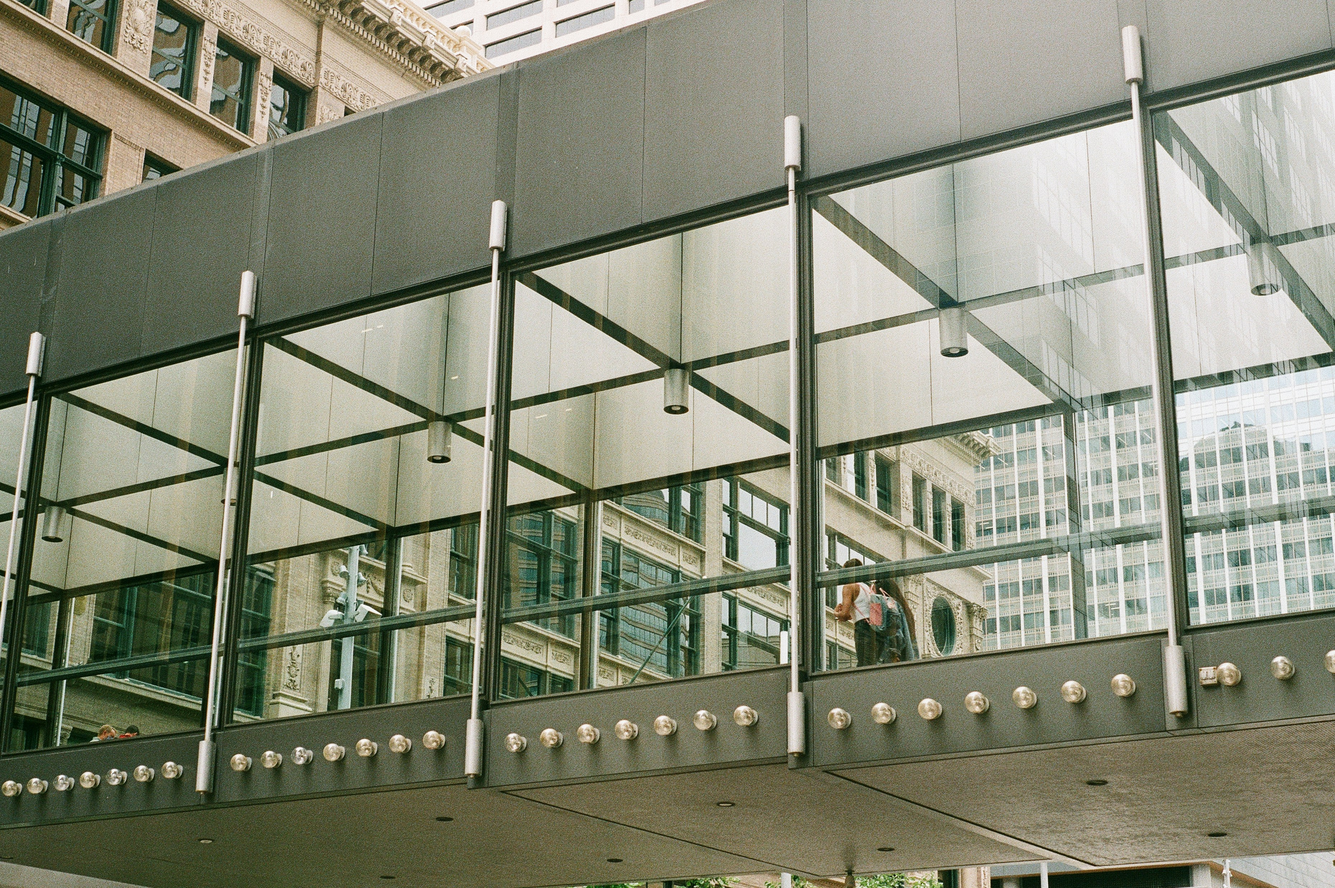glass_panel: (814, 123, 1164, 668), (502, 210, 790, 695), (235, 287, 489, 718), (1154, 74, 1335, 622), (19, 351, 236, 745)
